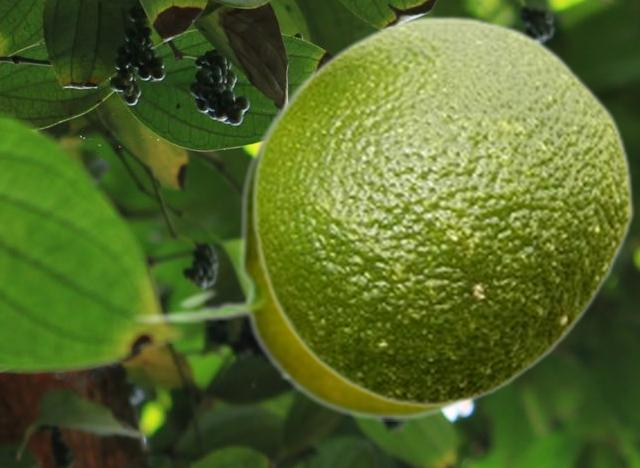calamansi: (250, 14, 633, 409), (131, 50, 473, 420)
